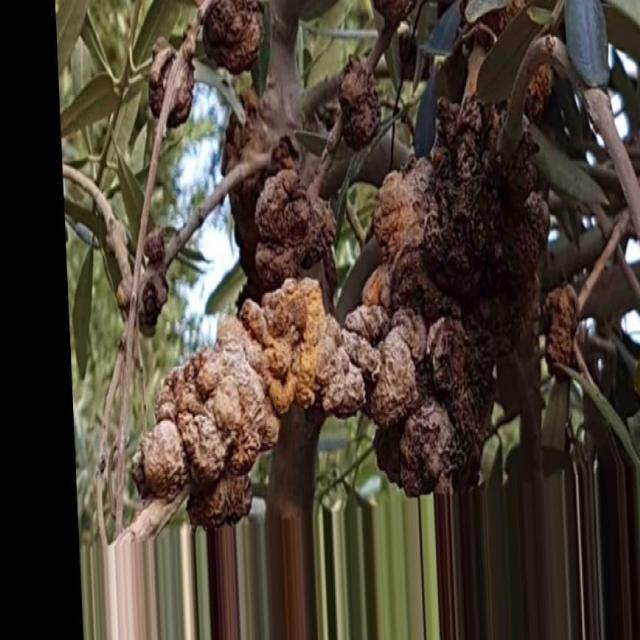Tuberculosis: (132, 98, 548, 530), (149, 0, 263, 127), (339, 58, 379, 150)
